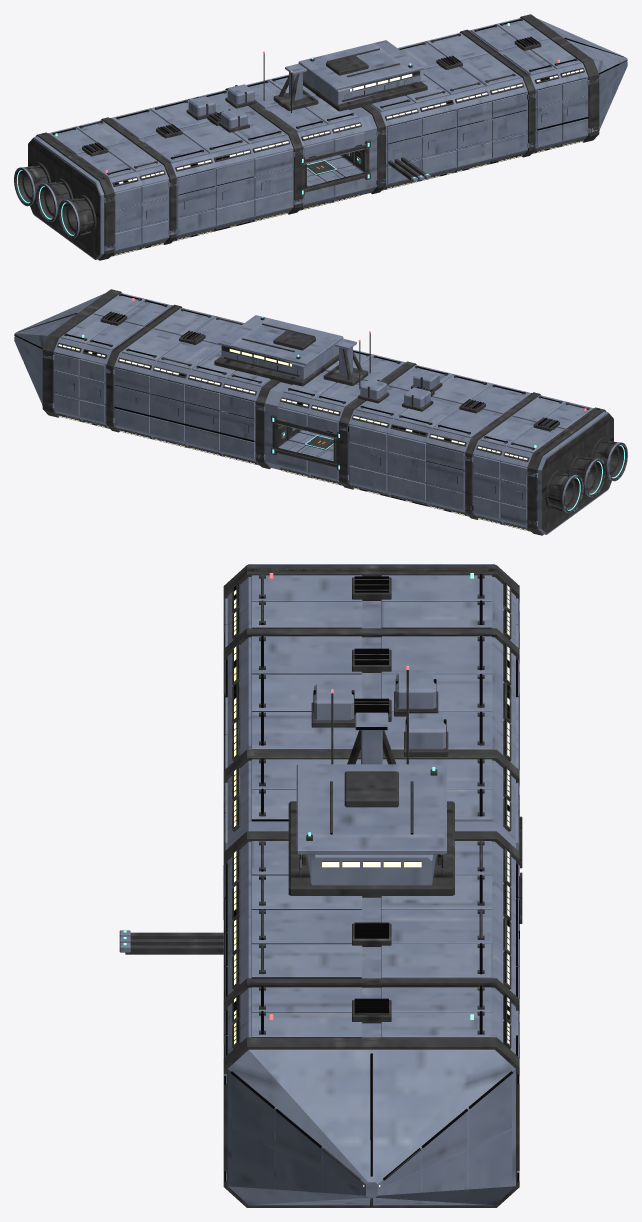
The model's file is cargo_carrier.glb.
3 views of the same model, one above another, from view 1: azimuth 30°, elevation 25°; view 2: azimuth 150°, elevation 25°; view 3: azimuth 270°, elevation 25° (orthographic). The views are drawn at different scales.
Parts seen in each view (by area): view 1: hull, interior, glass, emissive; view 2: hull, interior, glass, emissive; view 3: hull, glass.
Part boxes in pixels (<box>): hull: <box>14,14,627,260</box>; interior: <box>305,147,365,188</box>; glass: <box>114,69,583,255</box>; emissive: <box>17,23,627,235</box>; hull: <box>14,289,627,535</box>; interior: <box>276,422,336,463</box>; glass: <box>58,344,527,530</box>; emissive: <box>14,298,624,510</box>; hull: <box>119,564,519,1207</box>; glass: <box>234,585,509,1044</box>.
Bounding box in the file's own units: 8150 × 1739 × 2448.
Materials: 4 (4 with a texture image).
